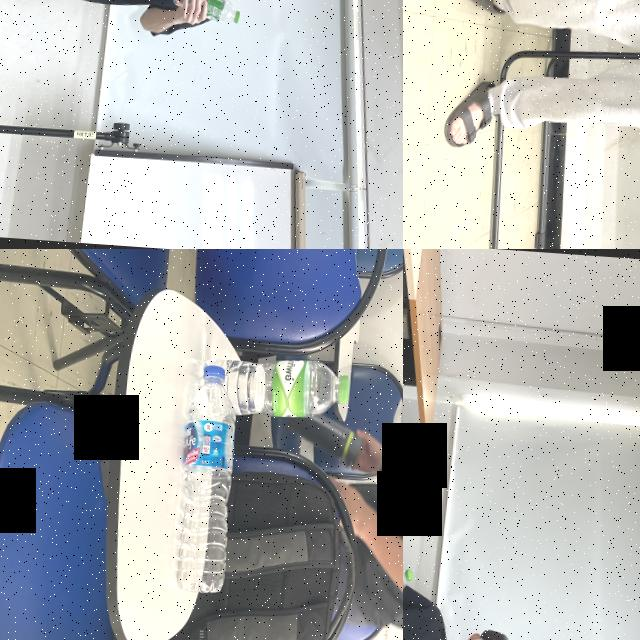bottle: (171, 362, 238, 594), (202, 350, 351, 425), (170, 0, 241, 26)
